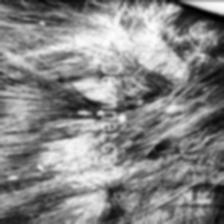Non-Cancerous Skin Condition: (14, 10, 94, 212), (131, 16, 210, 199)
